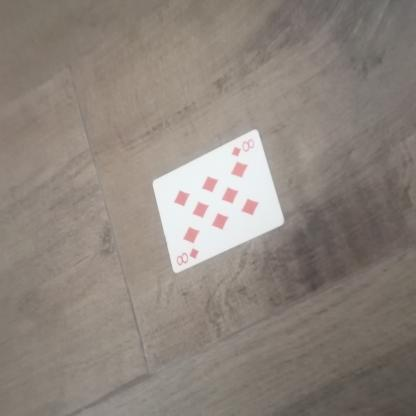8D: (174, 244, 204, 270), (230, 138, 258, 164)
